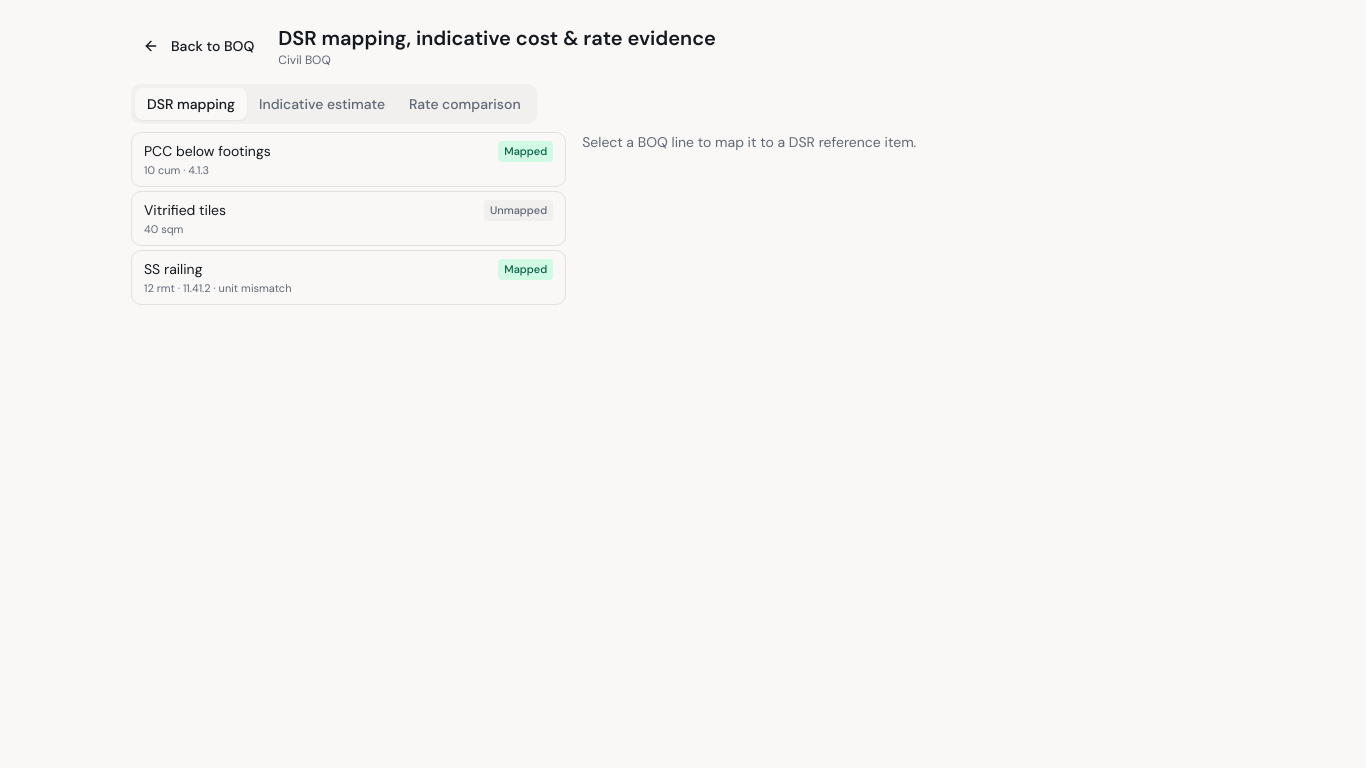
BoqDsrMapping — indicative estimate › a unit-mismatched or unmapped line can't be included; an eligible one is included via the mapping row only
Press the mouse on the tab "Indicative estimate" at (322, 104), box [247,88,397,120]
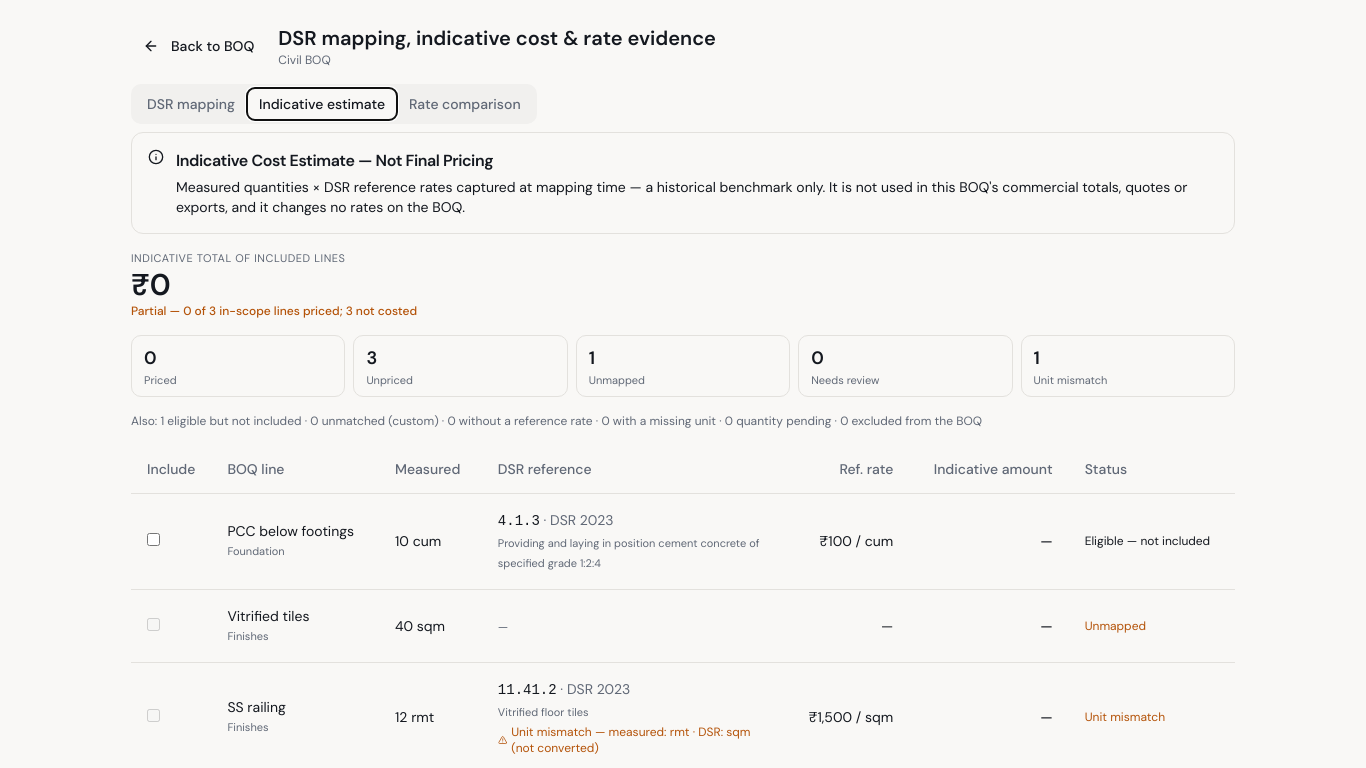
Expected: the heading "Indicative Cost Estimate — Not Final Pricing" is shown, [176,150,493,171]
Expected: the checkbox named "Include SS railing" is disabled, [147,709,160,722]
Expected: the checkbox named "Include Vitrified tiles" is disabled, [147,618,160,630]
Click the checkbox named "Include PCC below footings" at (154, 540), box [147,533,160,546]
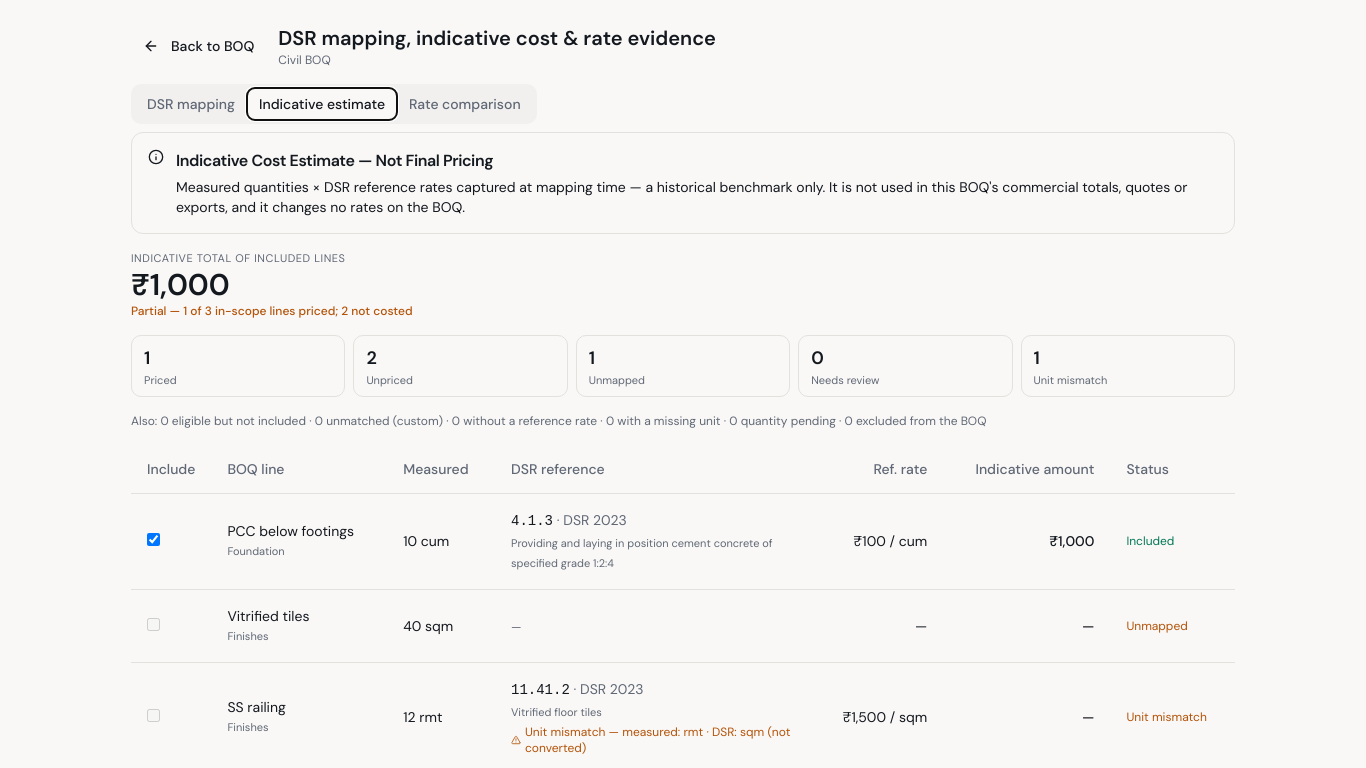
Expected: the text with test id "indicative-total" reads "₹1,000", [131,264,230,304]
